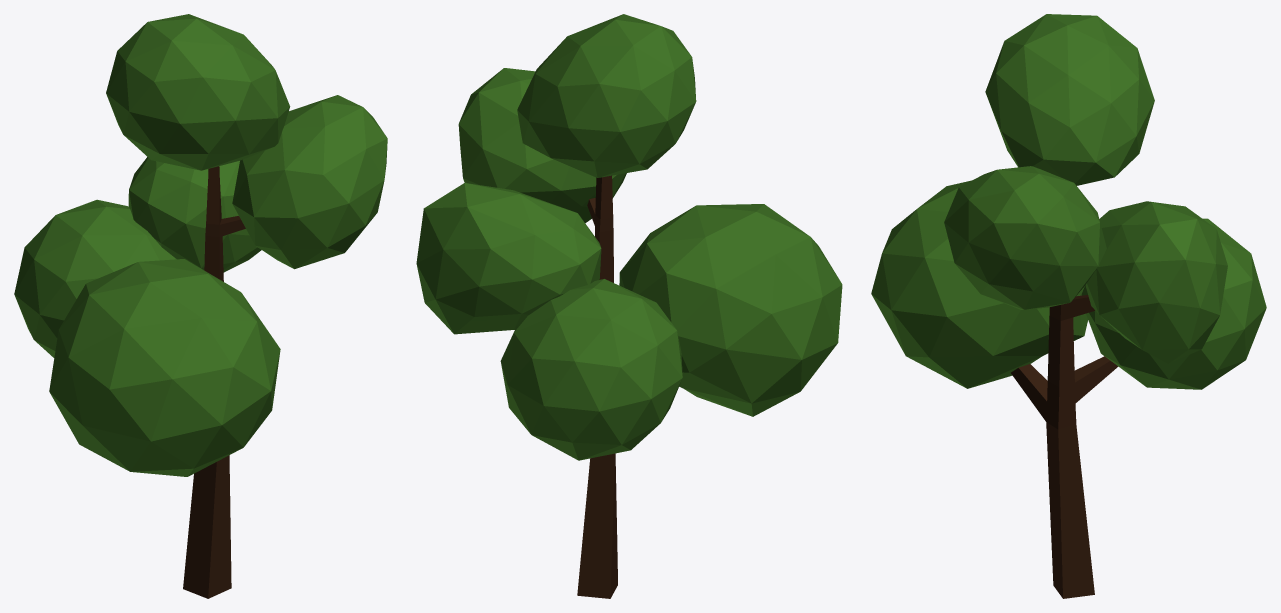
The model's file is cutting_tree2.FBX.
3 renders of one model, left to right at view 1: azimuth 30°, elevation 25°; view 2: azimuth 150°, elevation 25°; view 3: azimuth 270°, elevation 25°, orthographic. The views are drawn at different scales.
Parts seen in each view (by area): view 1: OakTree2; view 2: OakTree2; view 3: OakTree2.
Part boxes in pixels (box(x1,y1,x2,y2)): OakTree2: box(14, 14, 387, 598); OakTree2: box(416, 14, 842, 598); OakTree2: box(871, 14, 1266, 598).
Bounding box in the file's own units: 427 × 712 × 458.
